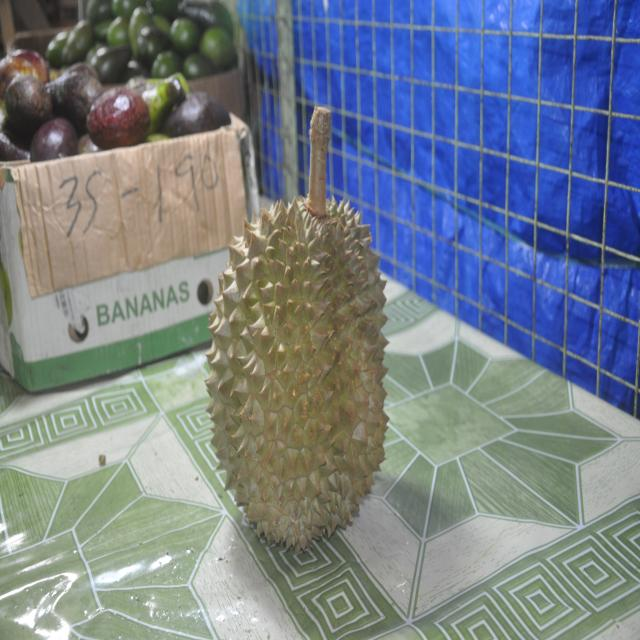mature: (207, 107, 387, 553)
